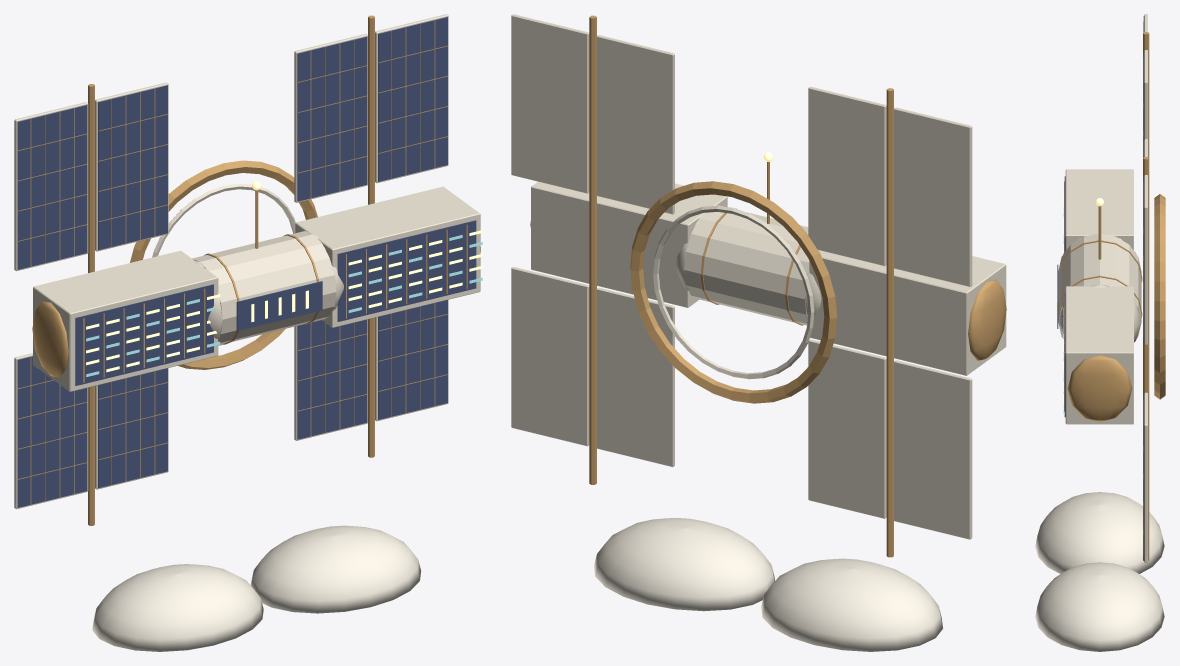
File: orb4_data_station_landmark.glb
3 renders of one model, left to right at view 1: azimuth 30°, elevation 25°; view 2: azimuth 150°, elevation 25°; view 3: azimuth 270°, elevation 25°, orthographic. The views are drawn at different scales.
Visible parts, largest first — view 1: orb4_data_station_landmark__orb3-indigo-glaze, orb4_data_station_landmark__orb3-ivory-ceramic, orb4_data_station_landmark__orb3-foam-cream, orb4_data_station_landmark__orb3-brushed-brass, orb4_data_station_landmark__orb4-warm-lamp, orb4_data_station_landmark__orb4-celadon-glass; view 2: orb4_data_station_landmark__orb3-ivory-ceramic, orb4_data_station_landmark__orb3-foam-cream, orb4_data_station_landmark__orb3-brushed-brass; view 3: orb4_data_station_landmark__orb3-ivory-ceramic, orb4_data_station_landmark__orb3-foam-cream, orb4_data_station_landmark__orb3-brushed-brass, orb4_data_station_landmark__orb3-indigo-glaze, orb4_data_station_landmark__orb4-warm-lamp.
Boxes of the visible parts, x1,y1,x2,y2 form: orb4_data_station_landmark__orb3-indigo-glaze: (17,17,476,507); orb4_data_station_landmark__orb3-ivory-ceramic: (14,14,480,509); orb4_data_station_landmark__orb3-foam-cream: (92,525,421,651); orb4_data_station_landmark__orb3-brushed-brass: (18,15,480,525); orb4_data_station_landmark__orb4-warm-lamp: (86,181,482,372); orb4_data_station_landmark__orb4-celadon-glass: (86,235,482,376); orb4_data_station_landmark__orb3-ivory-ceramic: (511,14,1006,539); orb4_data_station_landmark__orb3-foam-cream: (594,517,942,651); orb4_data_station_landmark__orb3-brushed-brass: (530,15,1006,557); orb4_data_station_landmark__orb3-ivory-ceramic: (1058,14,1147,562); orb4_data_station_landmark__orb3-foam-cream: (1035,492,1164,651); orb4_data_station_landmark__orb3-brushed-brass: (1058,22,1165,560); orb4_data_station_landmark__orb3-indigo-glaze: (1057,16,1144,560); orb4_data_station_landmark__orb4-warm-lamp: (1057,190,1103,404).
Size of the model in its own units: 49.5 by 58 by 14.12.
